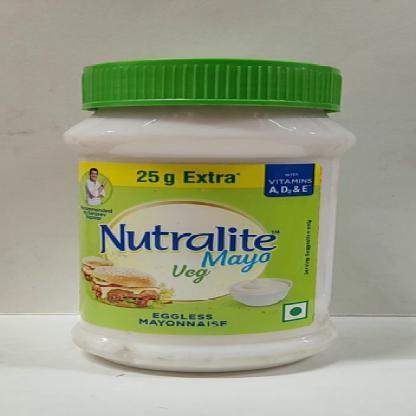Nutralite VEG MAYO 300g-275g-25g-: (71, 59, 351, 373)
